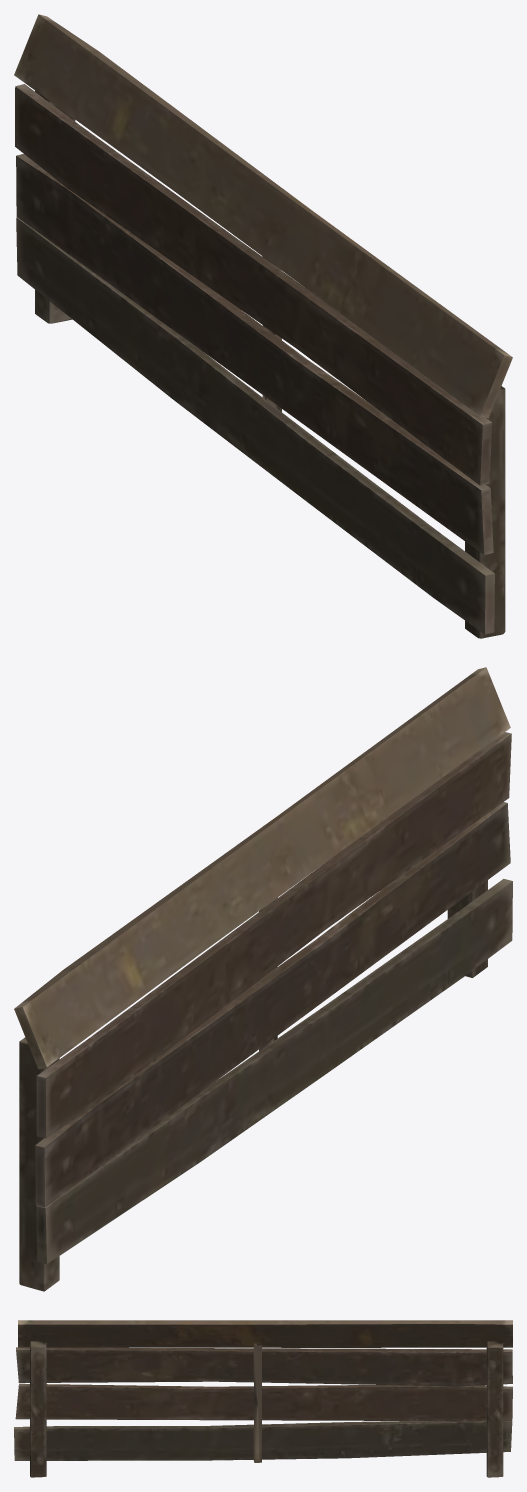
File: foundation.frontier.wall_variant_c.glb
3 views of the same model, one above another, from view 1: azimuth 30°, elevation 25°; view 2: azimuth 150°, elevation 25°; view 3: azimuth 270°, elevation 25° (orthographic). The views are drawn at different scales.
Parts seen in each view (by area): view 1: model; view 2: model; view 3: model.
Part boxes in pixels (bbox=[...]): model: bbox=[14, 14, 512, 638]; model: bbox=[14, 667, 512, 1291]; model: bbox=[14, 1320, 512, 1477].
Size of the model in its own units: 0.1398 by 1.03 by 3.01.
Materials: 1 (1 with a texture image).
